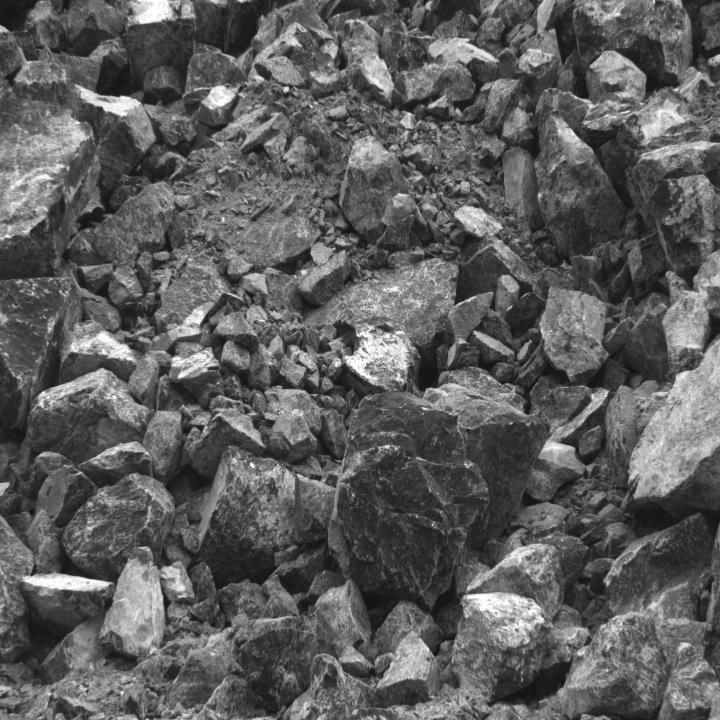stone: (337, 387, 549, 603), (188, 446, 336, 586), (5, 369, 155, 502), (0, 74, 97, 277), (626, 335, 720, 511), (0, 270, 82, 444), (536, 116, 628, 263), (549, 608, 666, 720), (603, 514, 720, 623), (61, 475, 174, 584), (449, 591, 555, 704), (574, 0, 690, 88), (240, 612, 316, 714), (339, 136, 410, 244), (154, 255, 247, 333), (100, 546, 165, 657), (651, 173, 719, 279), (219, 212, 322, 281), (92, 184, 175, 268), (165, 626, 243, 714), (465, 544, 570, 609), (541, 286, 608, 382), (605, 380, 661, 490), (344, 320, 420, 397), (456, 233, 534, 303), (372, 632, 441, 708), (56, 320, 139, 383), (661, 272, 710, 376), (313, 580, 371, 660), (183, 42, 247, 114), (437, 366, 528, 414), (622, 293, 670, 383), (498, 146, 546, 230), (392, 63, 477, 110), (578, 94, 644, 150), (528, 440, 588, 500), (76, 441, 154, 486), (430, 36, 500, 85), (170, 347, 226, 405), (585, 51, 647, 100), (298, 250, 351, 307), (383, 27, 441, 75), (345, 50, 393, 108), (86, 36, 129, 94), (628, 232, 668, 294), (534, 387, 592, 428), (517, 48, 559, 103), (446, 292, 491, 342), (483, 78, 522, 131), (212, 310, 258, 352), (196, 88, 238, 126), (144, 67, 184, 106), (157, 559, 193, 601), (471, 331, 515, 365), (376, 214, 414, 251), (603, 349, 631, 394), (503, 383, 527, 397)
